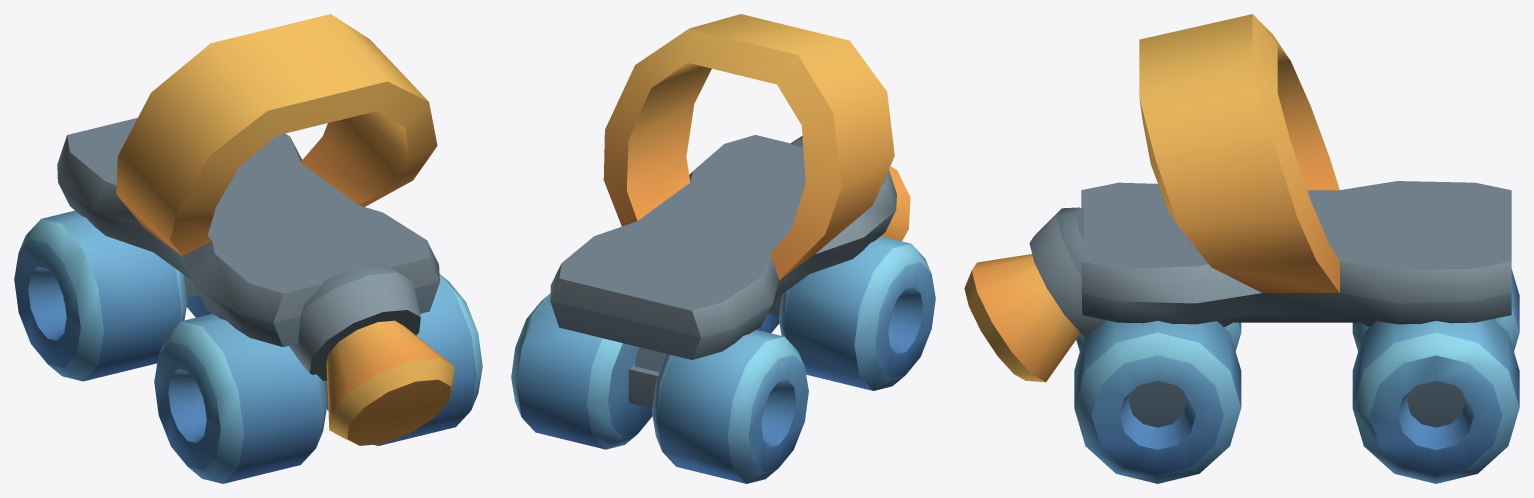
File: rollerskate_B.glb
3 renders of one model, left to right at view 1: azimuth 30°, elevation 25°; view 2: azimuth 150°, elevation 25°; view 3: azimuth 270°, elevation 25°, orthographic. The views are drawn at different scales.
Visible parts, largest first — view 1: rollerskate_B; view 2: rollerskate_B; view 3: rollerskate_B.
Boxes of the visible parts, x1,y1,x2,y2 form: rollerskate_B: [14, 14, 482, 483]; rollerskate_B: [511, 14, 935, 483]; rollerskate_B: [964, 14, 1519, 483].
Size of the model in its own units: 0.27 by 0.381 by 0.4987.
Materials: 1 (1 with a texture image).
